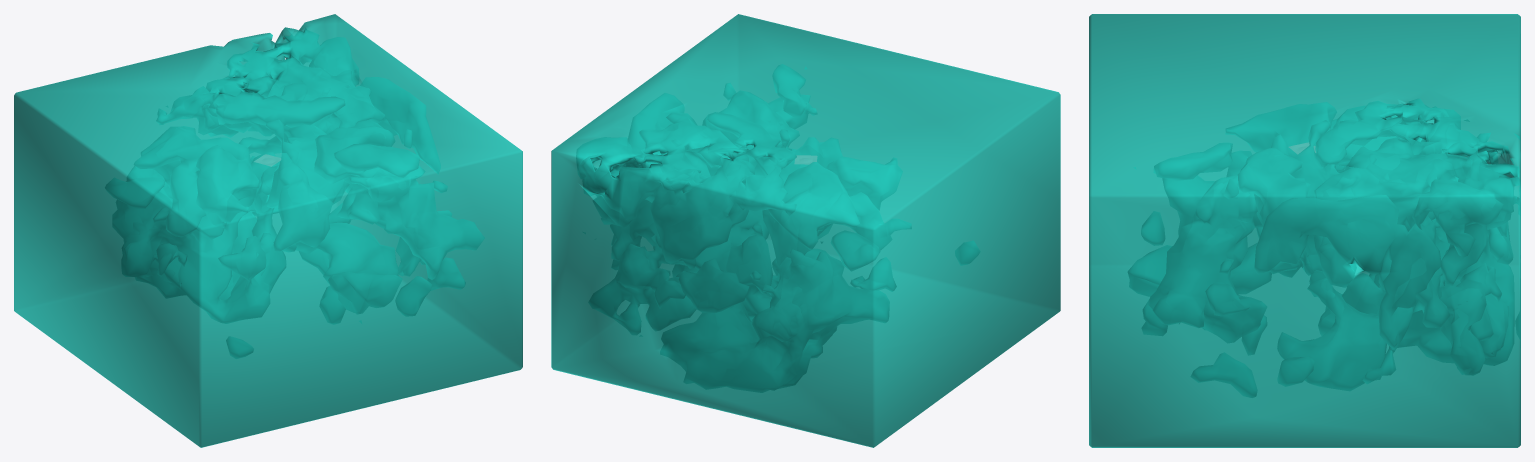
3 renders of one model, left to right at view 1: azimuth 30°, elevation 25°; view 2: azimuth 150°, elevation 25°; view 3: azimuth 270°, elevation 25°, orthographic. The views are drawn at different scales.
Visible parts, largest first — view 1: Liquid_Domain; view 2: Liquid_Domain; view 3: Liquid_Domain.
Boxes of the visible parts, box(x1,y1,x2,y2) form: Liquid_Domain: box(14, 14, 522, 447); Liquid_Domain: box(551, 14, 1060, 447); Liquid_Domain: box(1089, 14, 1520, 447).
Size of the model in its own units: 391 by 254 by 391.
